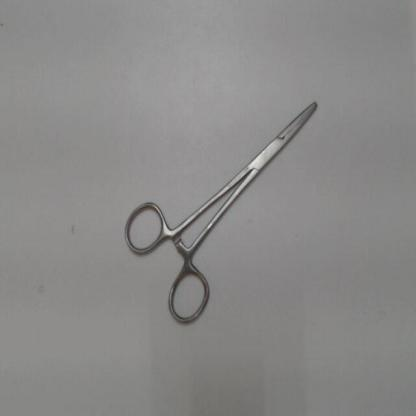Mayo Needle Holder: (114, 80, 338, 335)
